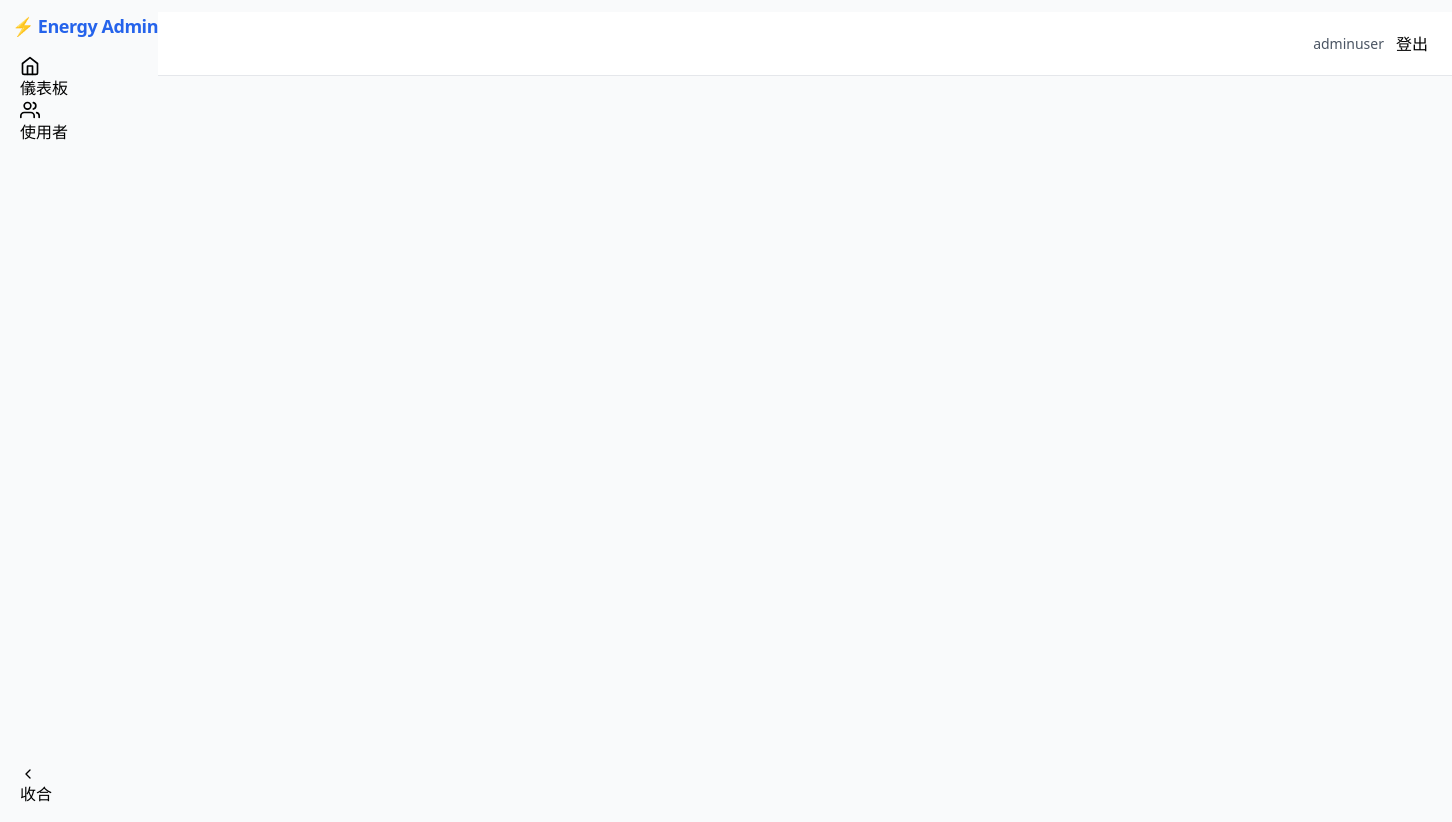
Test case: AppLayout › shows toast after logout
Click the button "登出".
click(1412, 44)  # box [1396, 32, 1428, 56]
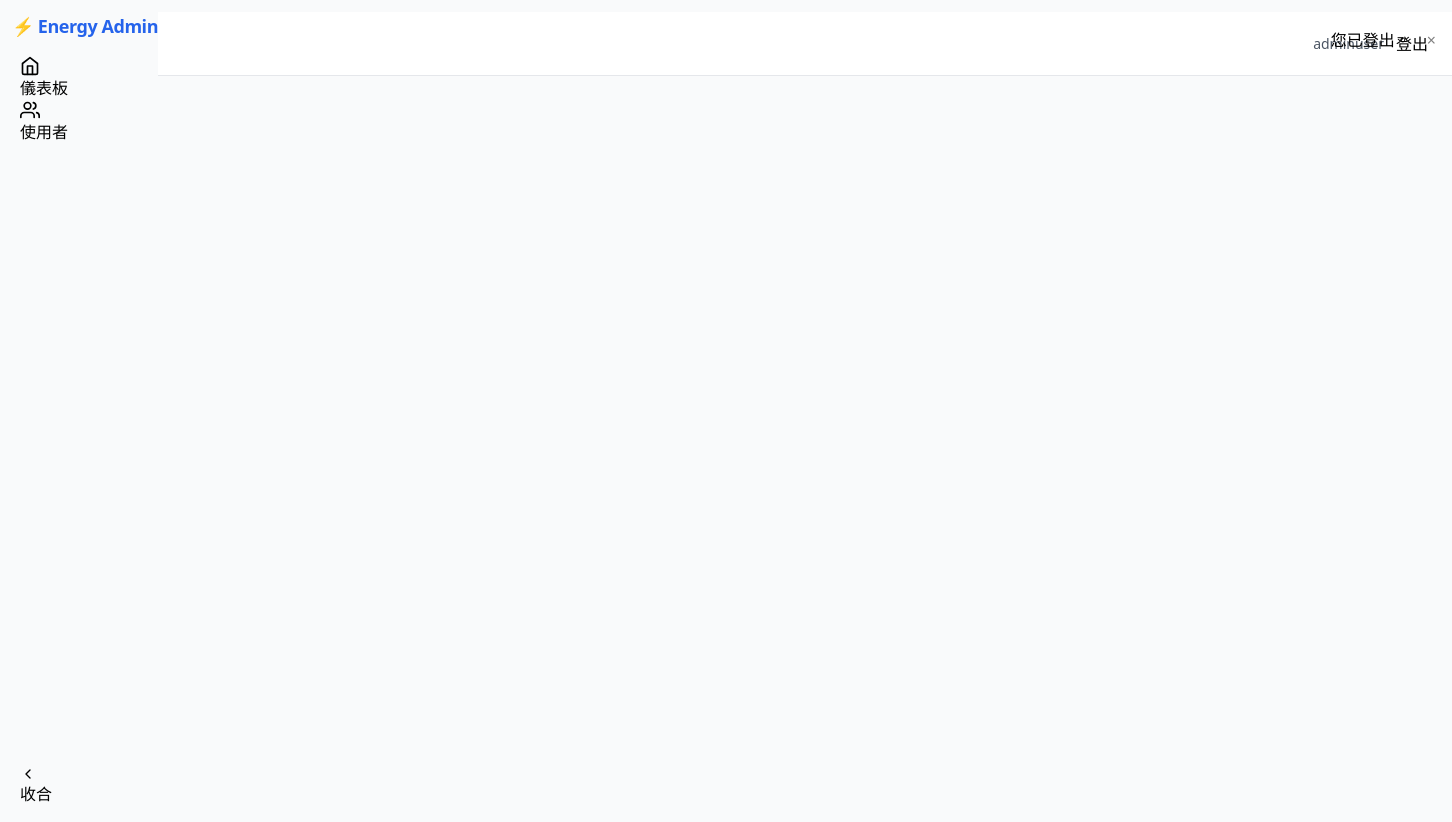
Check: the text "您已登出。" is shown, box [1331, 29, 1411, 51]
